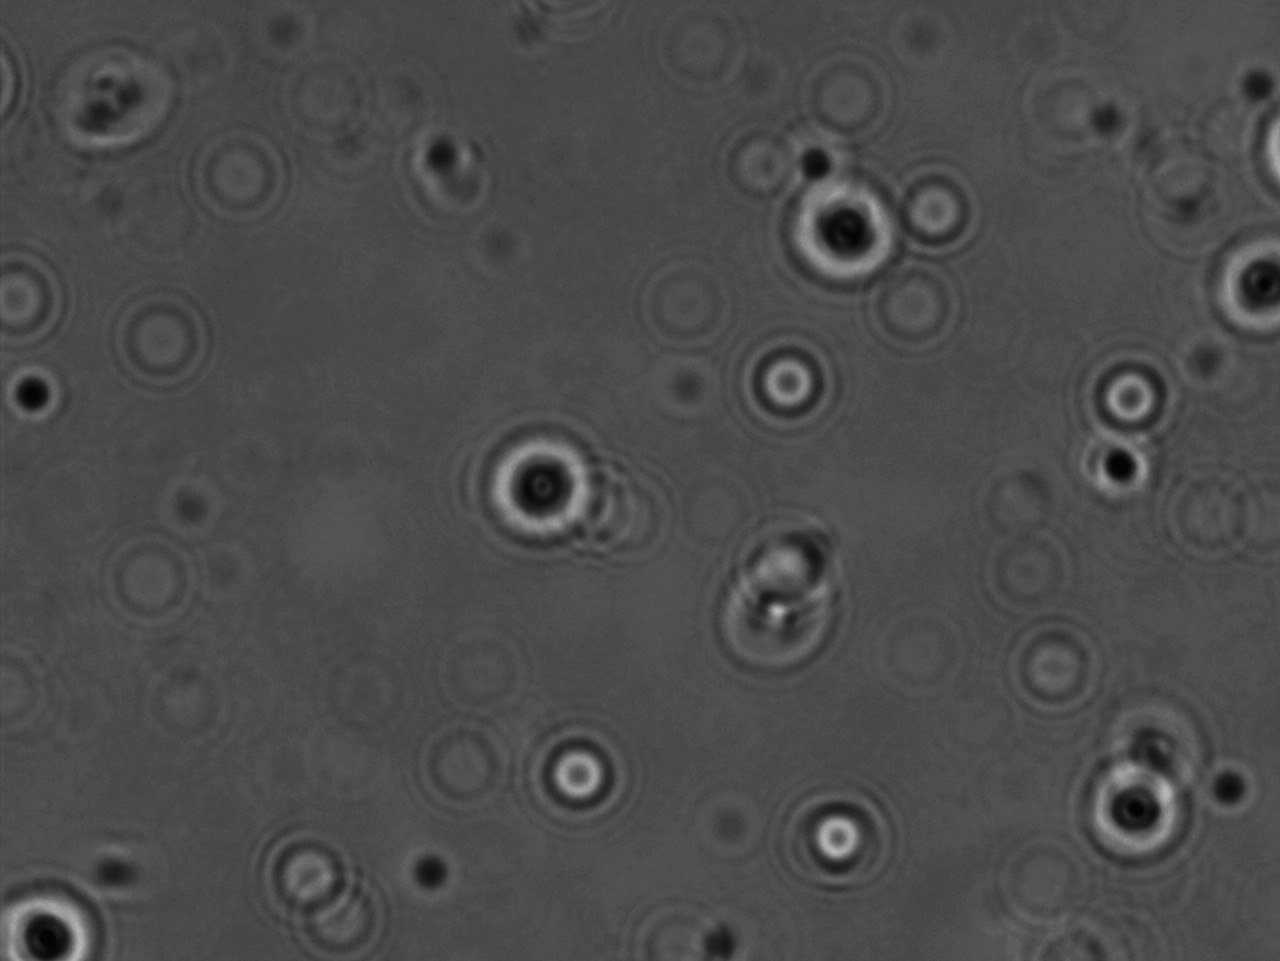depth:-16: (462, 410, 615, 561), (1070, 745, 1208, 876), (785, 177, 918, 295), (1196, 219, 1280, 341)
